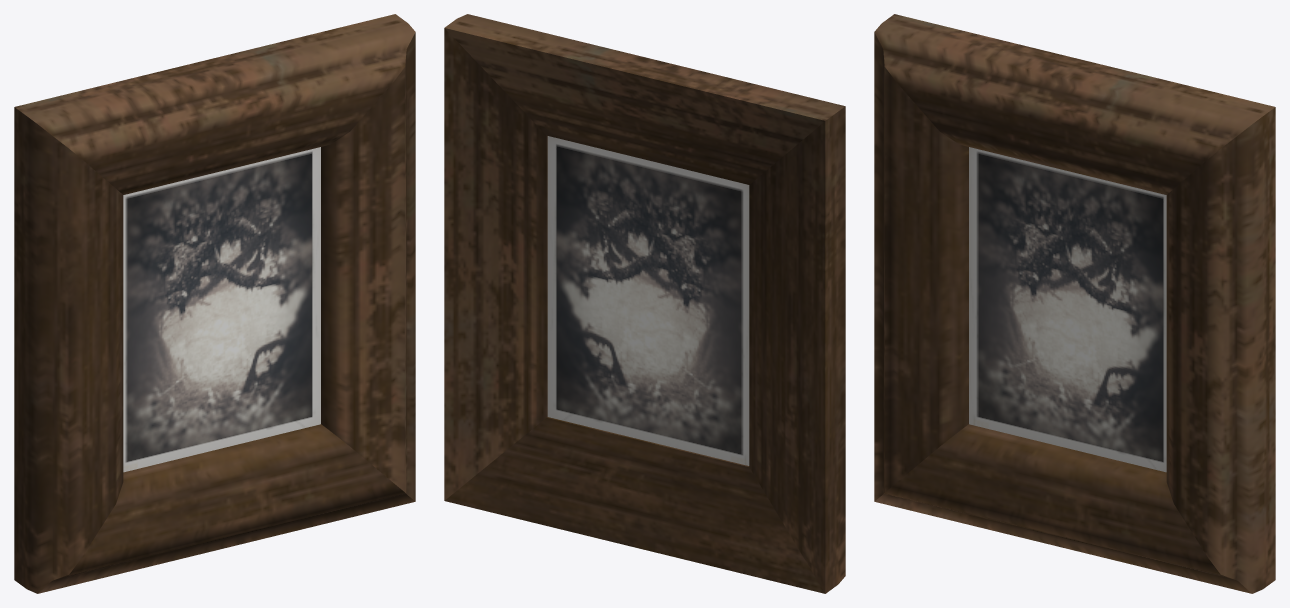
Rendered from Picture_8_Tiny_Framed.FBX.
3 renders of one model, left to right at view 1: azimuth 30°, elevation 25°; view 2: azimuth 150°, elevation 25°; view 3: azimuth 330°, elevation 25°, orthographic.
Parts seen in each view (by area): view 1: Picture_8_Tiny_Framed; view 2: Picture_8_Tiny_Framed; view 3: Picture_8_Tiny_Framed.
Boxes of the visible parts, left/top/right/bottom form: Picture_8_Tiny_Framed: left=14, top=14, right=415, bottom=593; Picture_8_Tiny_Framed: left=444, top=14, right=845, bottom=593; Picture_8_Tiny_Framed: left=874, top=14, right=1275, bottom=593.
Size of the model in its own units: 30.59 by 36.28 by 4.49.
